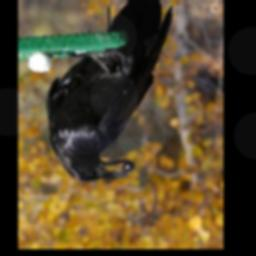Crow: (45, 0, 173, 182)
